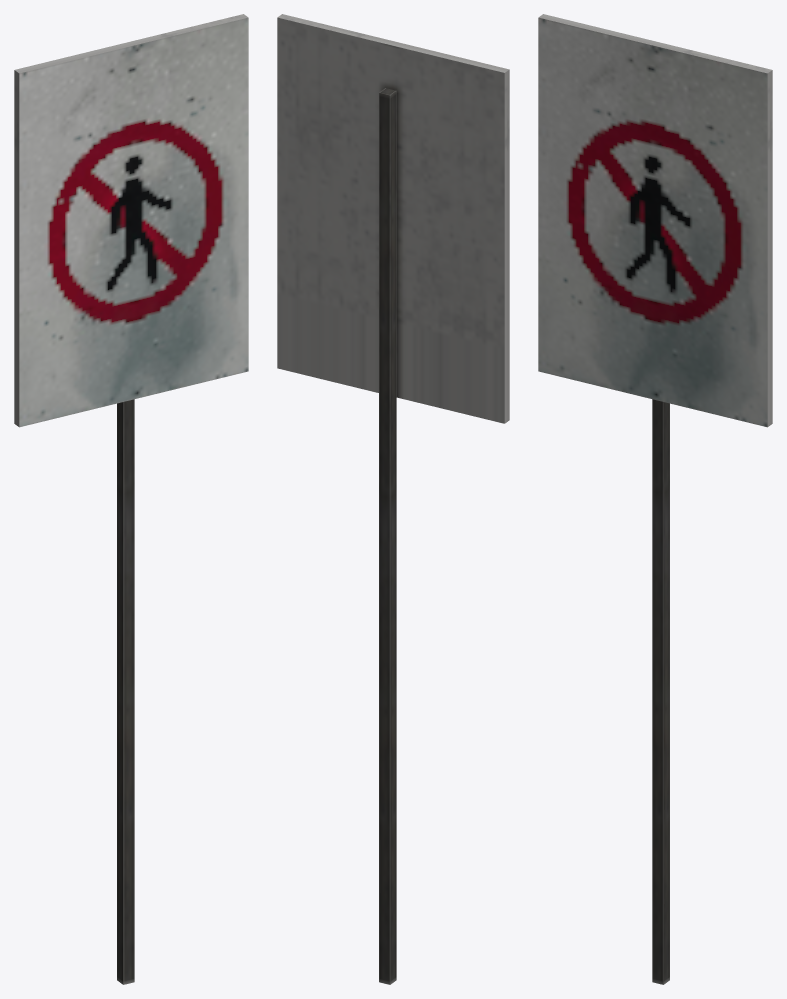
The model's file is Sign10.obj.
The picture shows the model from 3 angles, left to right: view 1: azimuth 30°, elevation 25°; view 2: azimuth 150°, elevation 25°; view 3: azimuth 330°, elevation 25°; orthographic projection.
Visible parts, largest first — view 1: Sign07; view 2: Sign07; view 3: Sign07.
Boxes of the visible parts, left/top/right/bottom form: Sign07: left=14, top=14, right=248, bottom=984; Sign07: left=277, top=14, right=509, bottom=984; Sign07: left=538, top=14, right=772, bottom=984.
Size of the model in its own units: 0.8138 by 3.19 by 0.07.
